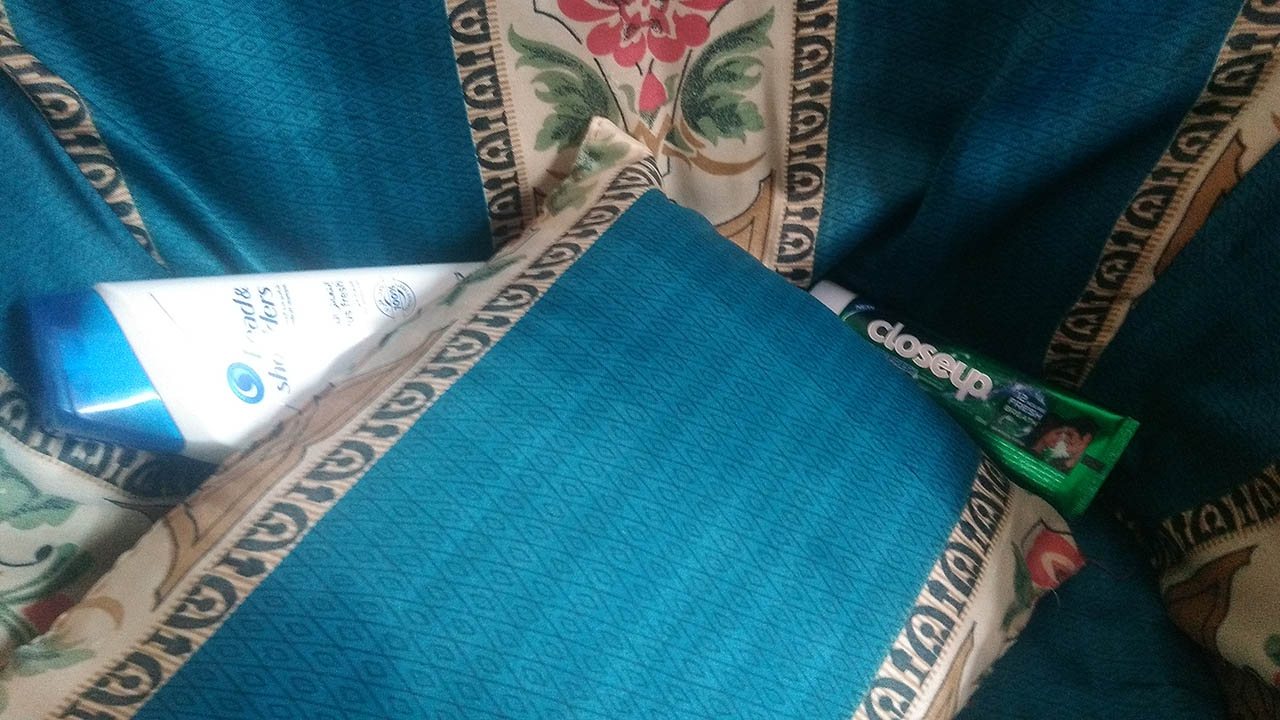Toothpaste-Closeup 3.04$: (806, 283, 1139, 510)
shampoo-Lemon 3.5$: (15, 270, 575, 453)
